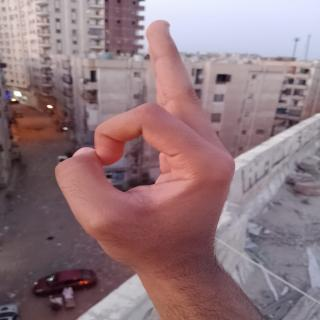Space: (49, 14, 244, 270)
